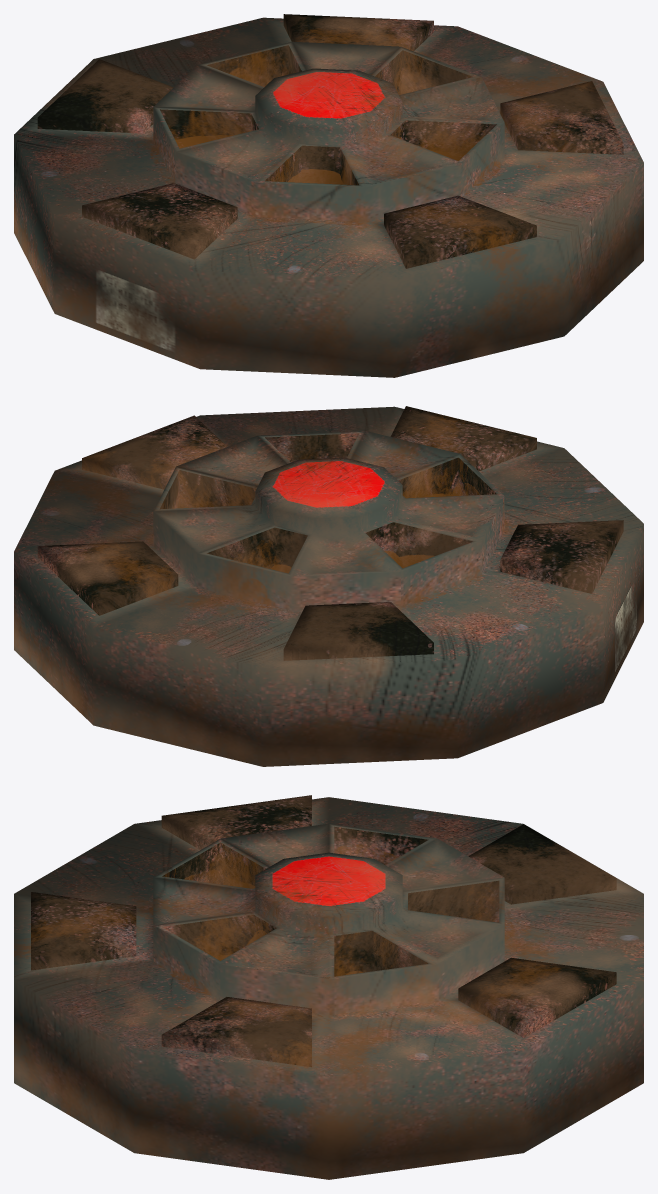
Rendered from Mina.obj.
3 views of the same model, one above another, from view 1: azimuth 30°, elevation 25°; view 2: azimuth 150°, elevation 25°; view 3: azimuth 270°, elevation 25° (orthographic). The views are drawn at different scales.
Visible parts, largest first — view 1: Mina; view 2: Mina; view 3: Mina.
Boxes of the visible parts, x1,y1,x2,y2 form: Mina: (14, 14, 643, 377); Mina: (14, 406, 643, 766); Mina: (14, 795, 643, 1179).
Size of the model in its own units: 2.6 by 0.6874 by 2.47.
Materials: 1 (1 with a texture image).
